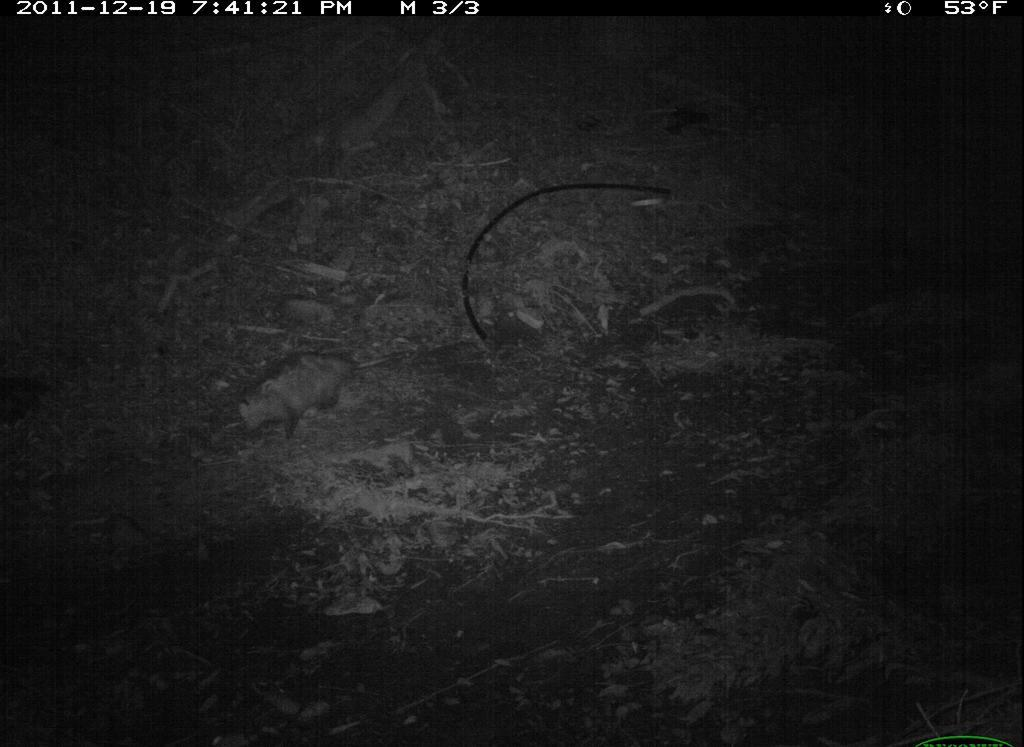opossum: (237, 345, 451, 454)
